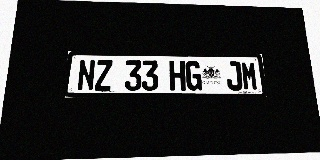3: (125, 60, 142, 91), (142, 60, 158, 91)
G: (185, 61, 202, 91)
H: (169, 61, 186, 91)
J: (225, 61, 243, 91)
M: (241, 61, 258, 91)
N: (77, 60, 96, 91)
Z: (95, 60, 113, 91)
